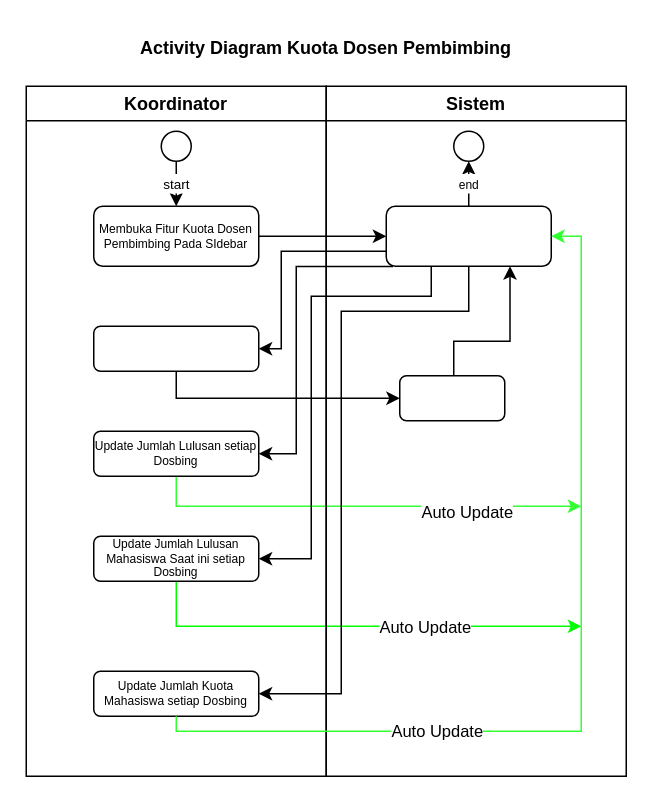
Image size: 653x803. Some labels were removed from this diagram. The shapes that lost their labels are listed below. From the top down, each one's centre as x and y in pixels, then its label:
[468,235]: Seluruh Halaman Dari Fitur Kuota Dosen Pembimbing
[175,348]: Update Jumlah alokasi Kuota Mahasiswa setiap Dosbing
[451,397]: Update
